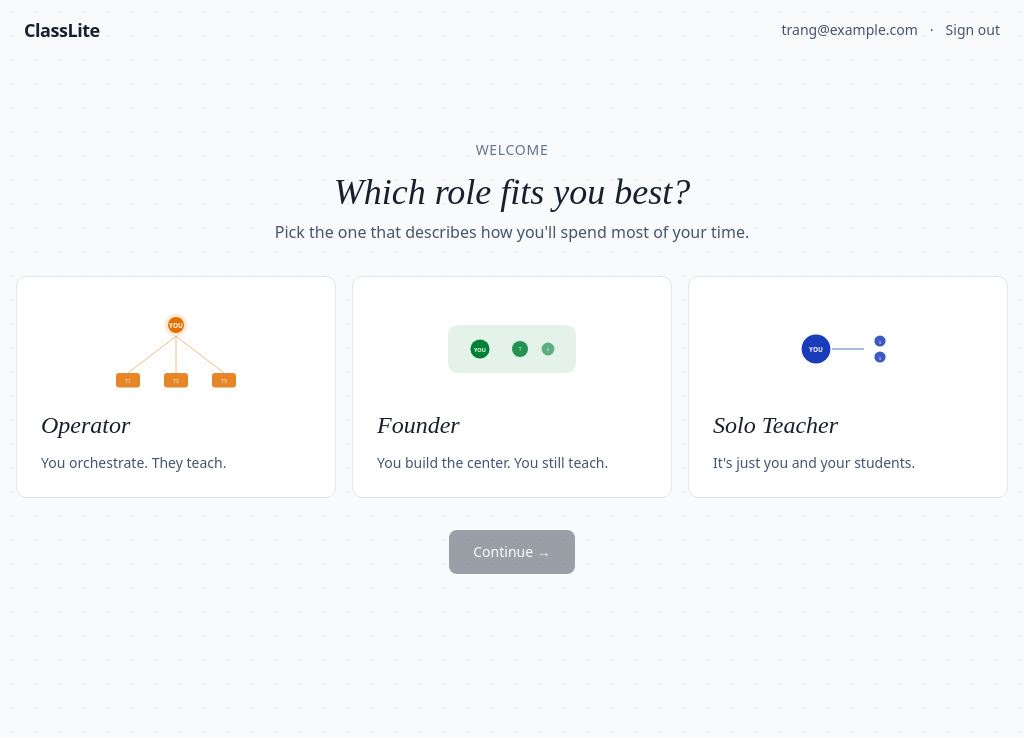
Scenario: PersonaSelectPage — AC3 Continue → POST persona + PUT progress + navigate › 403 EMAIL_VERIFICATION_REQUIRED renders inline alert with verify link
Click the radio button labelled "YOU T1 T2 T3 Operator You orchestrate. They teach." at (176,387), box 16,276 -> 336,498
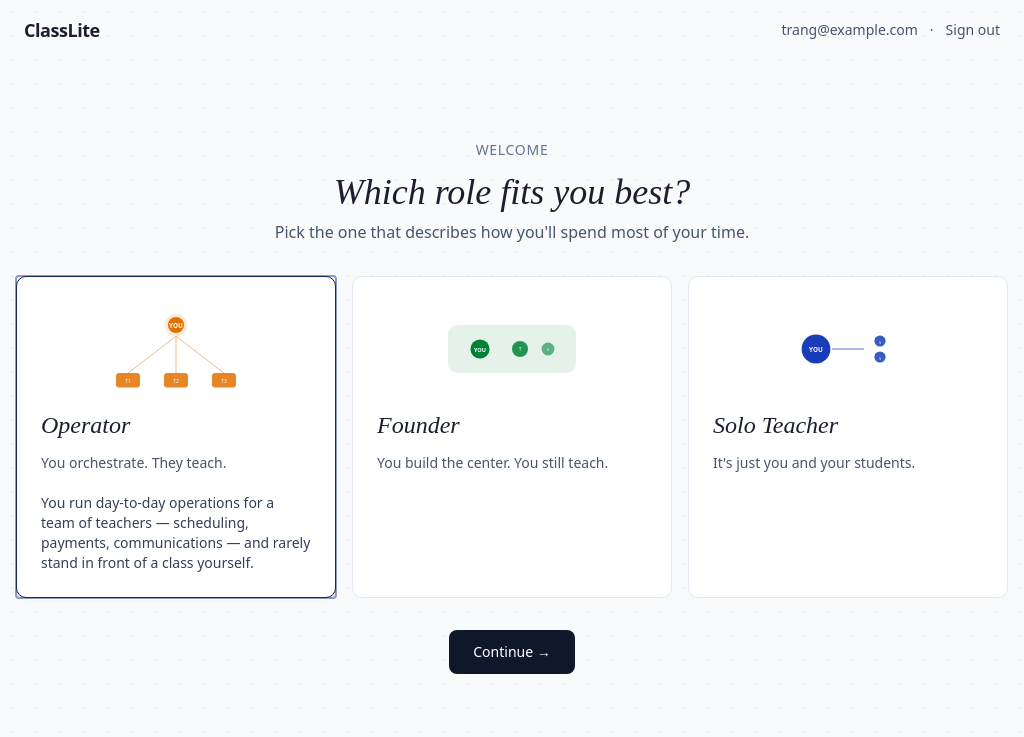
Click the button "Continue →" at (512,652), box 449,630 -> 575,674
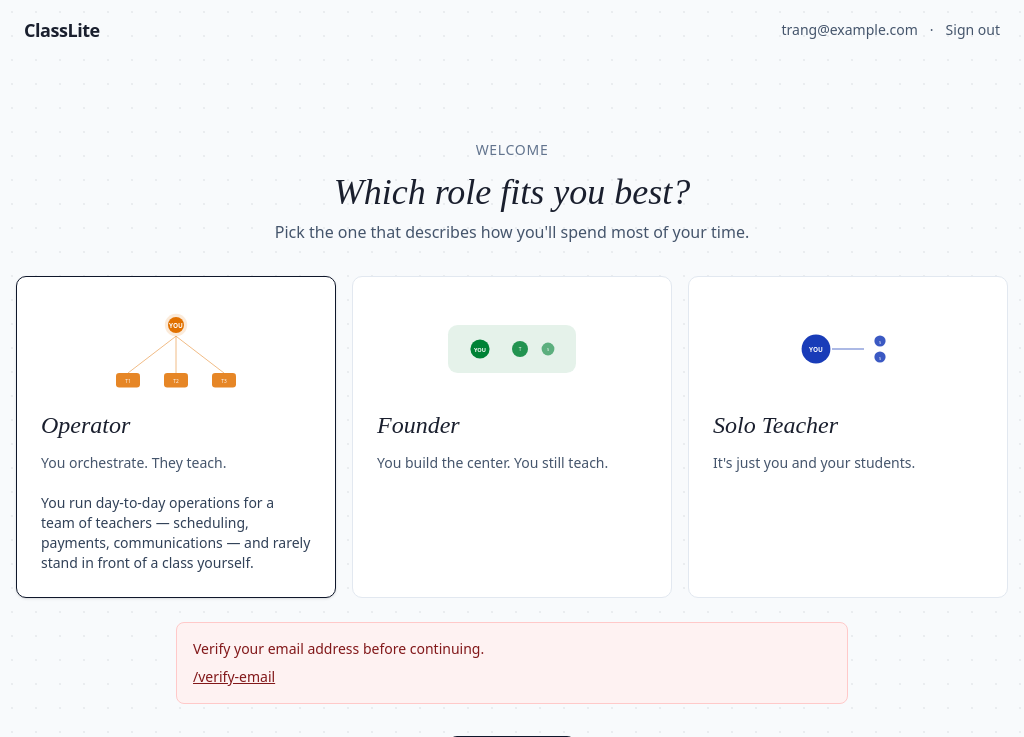
expect the message "Verify your email address before continuing. /verify-email" is shown: met, box 176,622 -> 848,704
expect the link "/verify-email" is shown: met, box 193,667 -> 275,686
